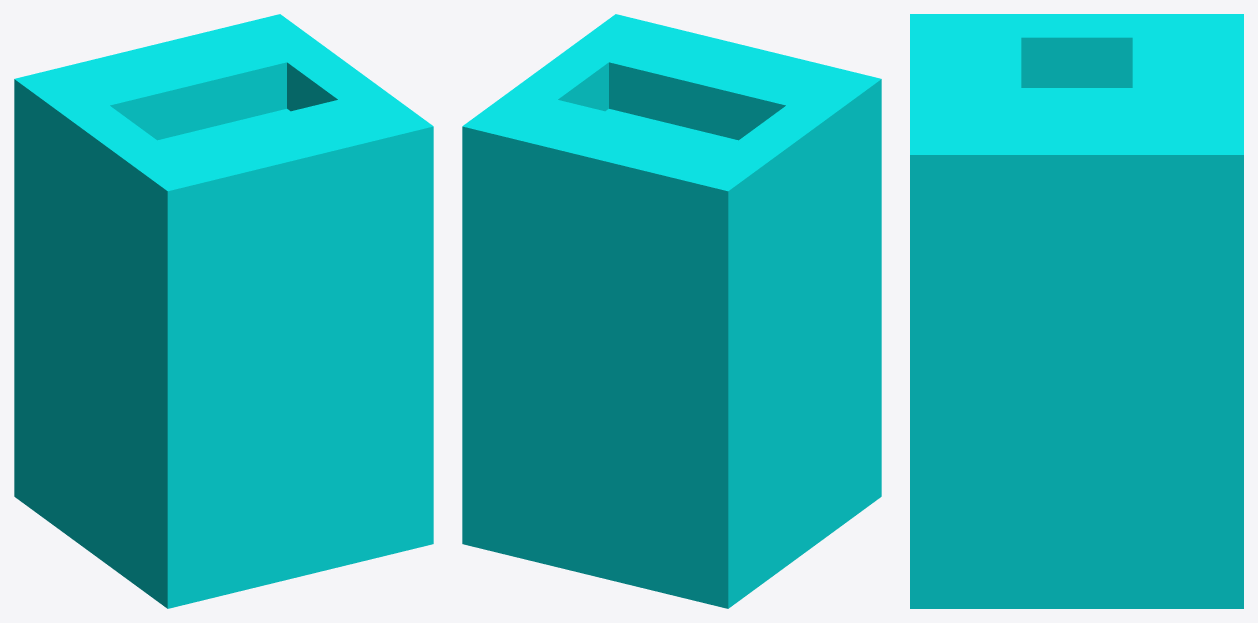
The picture shows the model from 3 angles, left to right: view 1: azimuth 30°, elevation 25°; view 2: azimuth 150°, elevation 25°; view 3: azimuth 270°, elevation 25°; orthographic projection. The views are drawn at different scales.
Visible parts, largest first — view 1: 118.1; view 2: 118.1; view 3: 118.1.
Part boxes in pixels (left/top/right/bottom): 118.1: left=14, top=14, right=433, bottom=608; 118.1: left=462, top=14, right=881, bottom=608; 118.1: left=910, top=14, right=1243, bottom=608.
Size of the model in its own units: 60 by 90 by 60.
Materials: 1 (1 with a texture image).
